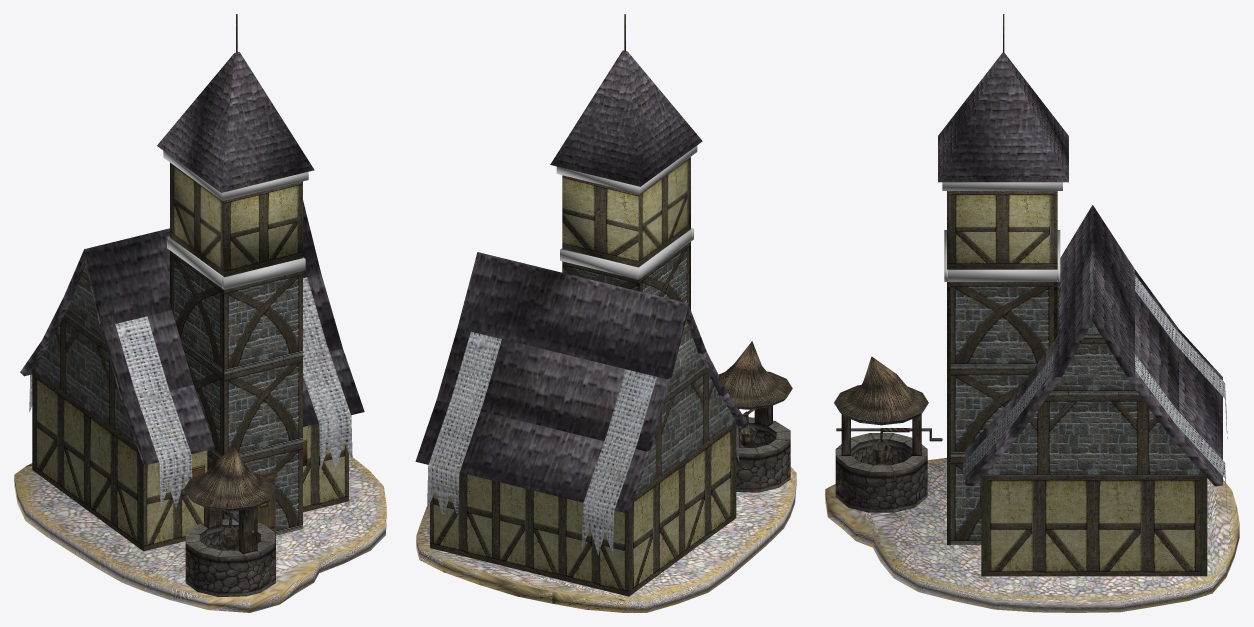
Rendered from town.fbx.
The picture shows the model from 3 angles, left to right: view 1: azimuth 30°, elevation 25°; view 2: azimuth 150°, elevation 25°; view 3: azimuth 270°, elevation 25°; orthographic projection. The views are drawn at different scales.
Parts seen in each view (by area): view 1: Vez_steny2, Circle, Strecha, Steny, Vez_strecha, Prapory, Studna, Vez_steny1, Stit, Vez_soklik1, Vez_soklik0, Postrani_tramy (+2 smaller); view 2: Strecha, Steny, Circle, Prapory, Vez_strecha, Vez_steny1, Studna, Stit, Vez_steny2, Vez_soklik1, Vez_soklik0, Postrani_tramy; view 3: Steny, Circle, Strecha, Stit, Vez_steny2, Vez_strecha, Studna, Vez_steny1, Prapory, Vez_soklik1, Postrani_tramy, Vez_krytky_rohu (+1 smaller).
Boxes of the visible parts, left/top/right/bottom form: Vez_steny2: left=171, top=252, right=302, bottom=535; Circle: left=14, top=454, right=386, bottom=612; Strecha: left=20, top=200, right=364, bottom=464; Steny: left=36, top=372, right=348, bottom=551; Vez_strecha: left=157, top=51, right=314, bottom=192; Prapory: left=29, top=277, right=352, bottom=508; Studna: left=183, top=447, right=276, bottom=596; Vez_steny1: left=170, top=162, right=302, bottom=276; Stit: left=33, top=265, right=136, bottom=445; Vez_soklik1: left=167, top=236, right=305, bottom=289; Vez_soklik0: left=163, top=151, right=308, bottom=200; Postrani_tramy: left=32, top=369, right=143, bottom=550; Strecha: left=415, top=252, right=748, bottom=512; Steny: left=430, top=423, right=732, bottom=596; Circle: left=416, top=466, right=796, bottom=612; Prapory: left=427, top=331, right=739, bottom=555; Vez_strecha: left=550, top=50, right=702, bottom=186; Vez_steny1: left=562, top=157, right=690, bottom=267; Studna: left=718, top=341, right=792, bottom=492; Stit: left=636, top=319, right=736, bottom=493; Vez_steny2: left=562, top=243, right=689, bottom=305; Vez_soklik1: left=560, top=228, right=693, bottom=279; Vez_soklik0: left=556, top=145, right=697, bottom=193; Postrani_tramy: left=629, top=421, right=736, bottom=596; Steny: left=988, top=374, right=1200, bottom=576; Circle: left=825, top=458, right=1239, bottom=612; Strecha: left=965, top=205, right=1222, bottom=486; Stit: left=984, top=322, right=1204, bottom=475; Vez_steny2: left=950, top=282, right=1053, bottom=544; Vez_strecha: left=938, top=52, right=1068, bottom=182; Studna: left=834, top=356, right=942, bottom=512; Vez_steny1: left=947, top=191, right=1057, bottom=269; Prapory: left=961, top=275, right=1227, bottom=522; Vez_soklik1: left=944, top=230, right=1060, bottom=281; Postrani_tramy: left=981, top=475, right=1207, bottom=576; Vez_krytky_rohu: left=947, top=282, right=1057, bottom=544.
Size of the model in its own units: 98.91 by 163 by 117.
